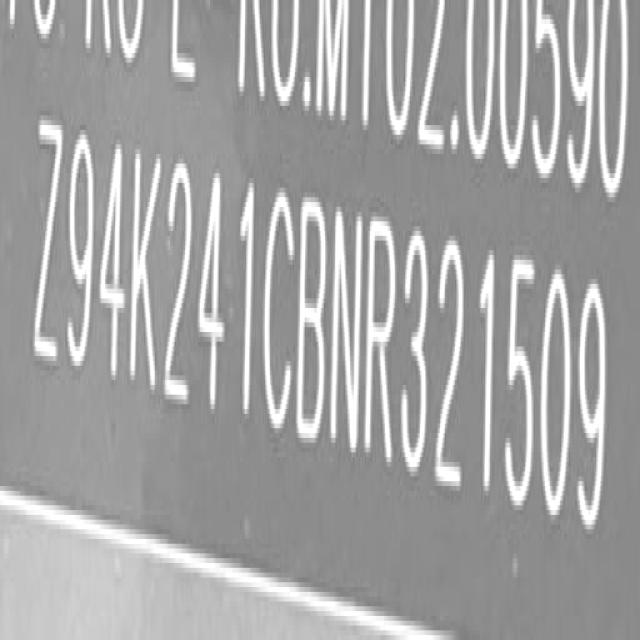0: (542, 268, 574, 526)
1: (477, 244, 496, 507), (236, 178, 255, 424)
2: (165, 152, 194, 412), (436, 239, 465, 497)
3: (400, 224, 430, 486)
4: (198, 166, 226, 422), (100, 134, 127, 388)
5: (506, 252, 537, 515)
9: (579, 283, 608, 538), (68, 127, 95, 382)
B: (299, 193, 330, 450)
C: (262, 187, 294, 436)
K: (129, 143, 161, 407)
N: (331, 204, 365, 460)
R: (368, 212, 398, 468)
Z: (34, 114, 64, 380)
